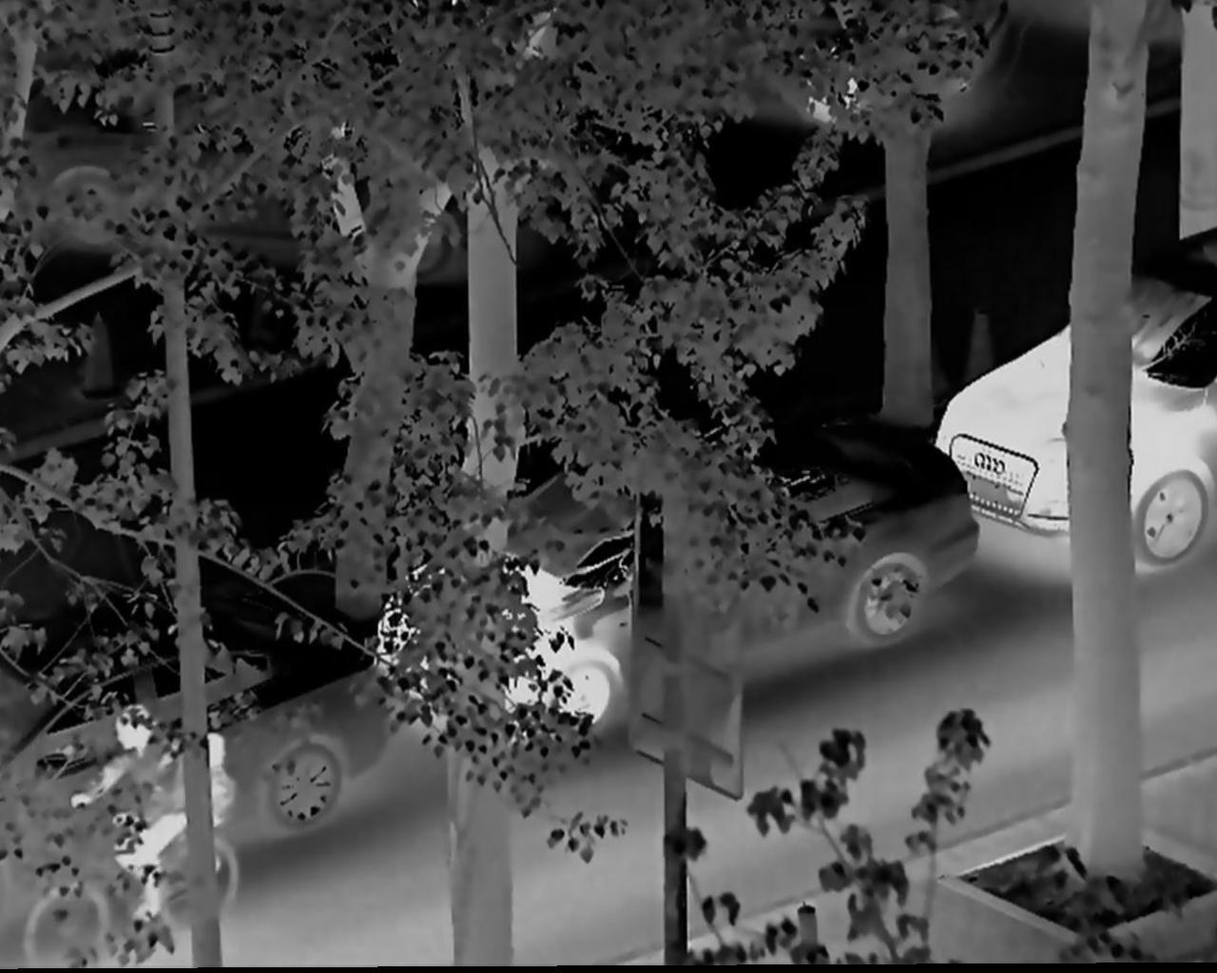person: (66, 706, 184, 940), (180, 730, 237, 839)
